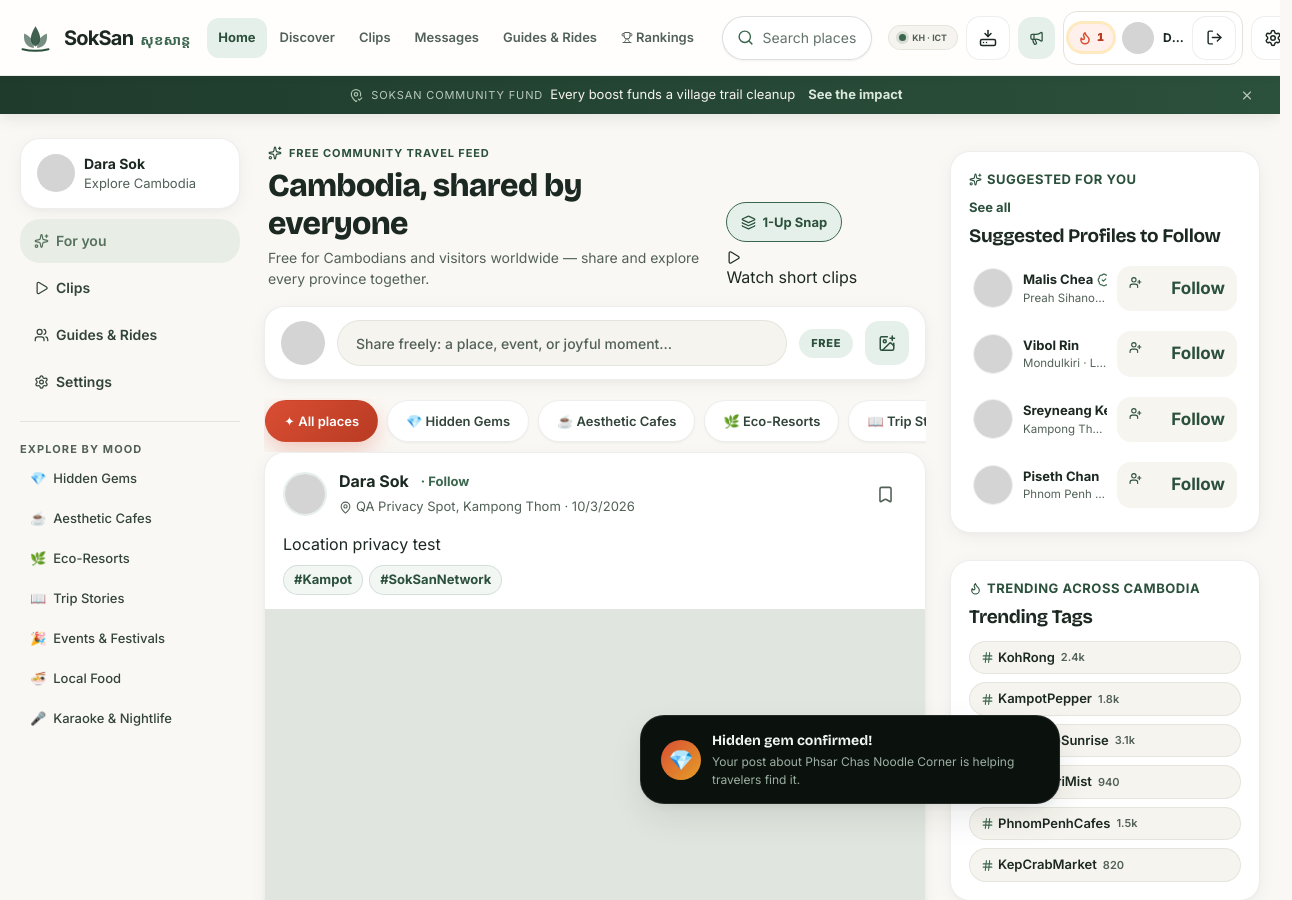
Scenario: location privacy (Phase 0 hardening) › the composer offers the three location-privacy choices with approximate as default
This screenshot has width=1292, height=900.
Click the button "Share freely: a place, event, or joyful moment...": (562, 343) [337,320,787,366]
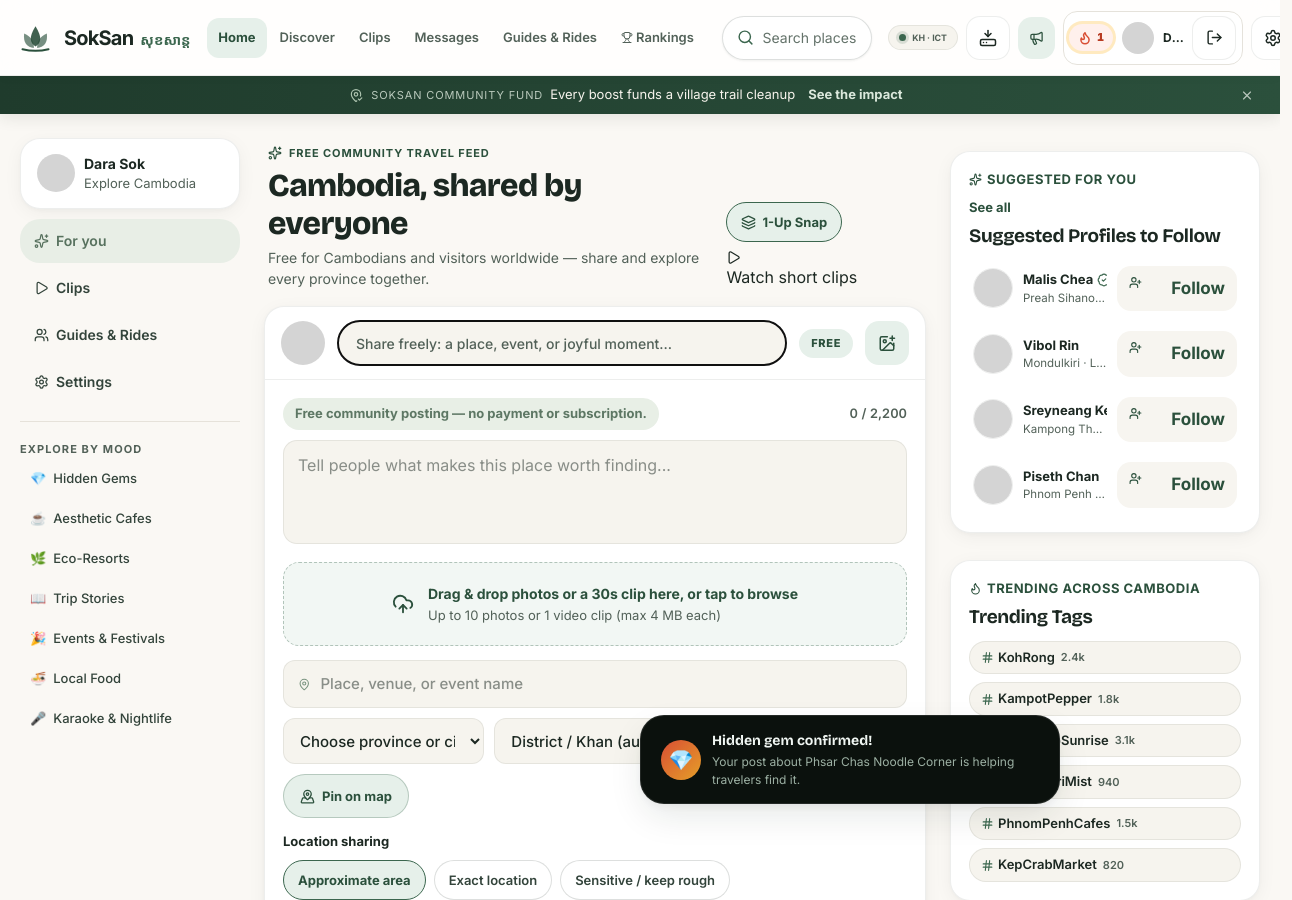
Click the radio button labelled "Sensitive / keep rough": (645, 880) [560,860,730,899]
(page scrolled)
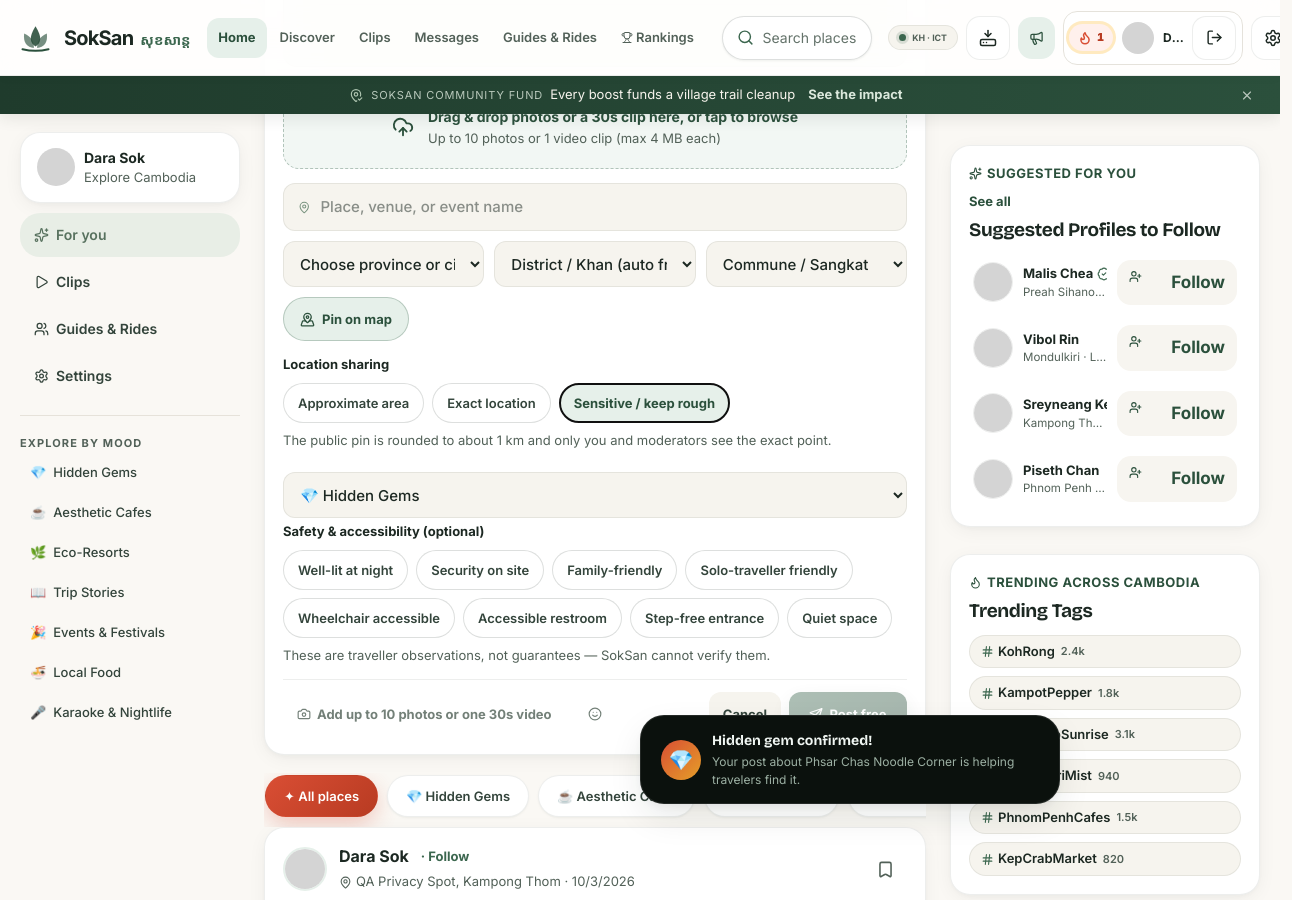
Expected: the text "rounded to about 1 km" is shown, [283,432,832,448]
